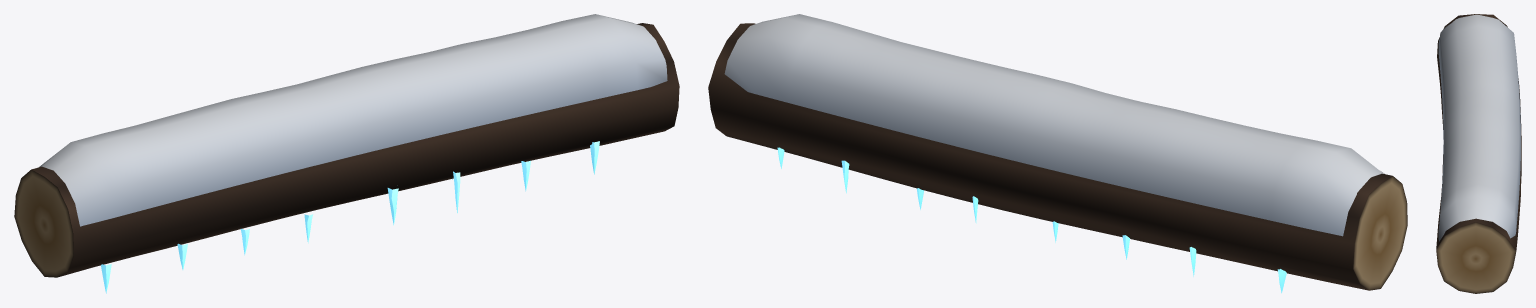
The model's file is log_snow.glb.
3 renders of one model, left to right at view 1: azimuth 30°, elevation 25°; view 2: azimuth 150°, elevation 25°; view 3: azimuth 270°, elevation 25°, orthographic. The views are drawn at different scales.
Parts seen in each view (by area): view 1: log_snow; view 2: log_snow; view 3: log_snow.
Part boxes in pixels (box(x1,y1,x2,y2)): log_snow: box(14, 14, 679, 293); log_snow: box(708, 14, 1407, 293); log_snow: box(1436, 14, 1521, 293).
Size of the model in its own units: 3.93 by 0.8498 by 0.6701.
